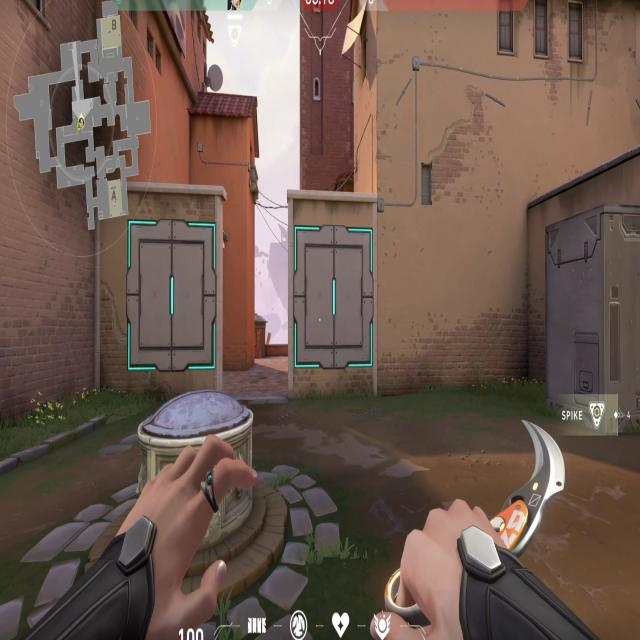Mid_Wall: (92, 186, 224, 398), (288, 188, 382, 392)
